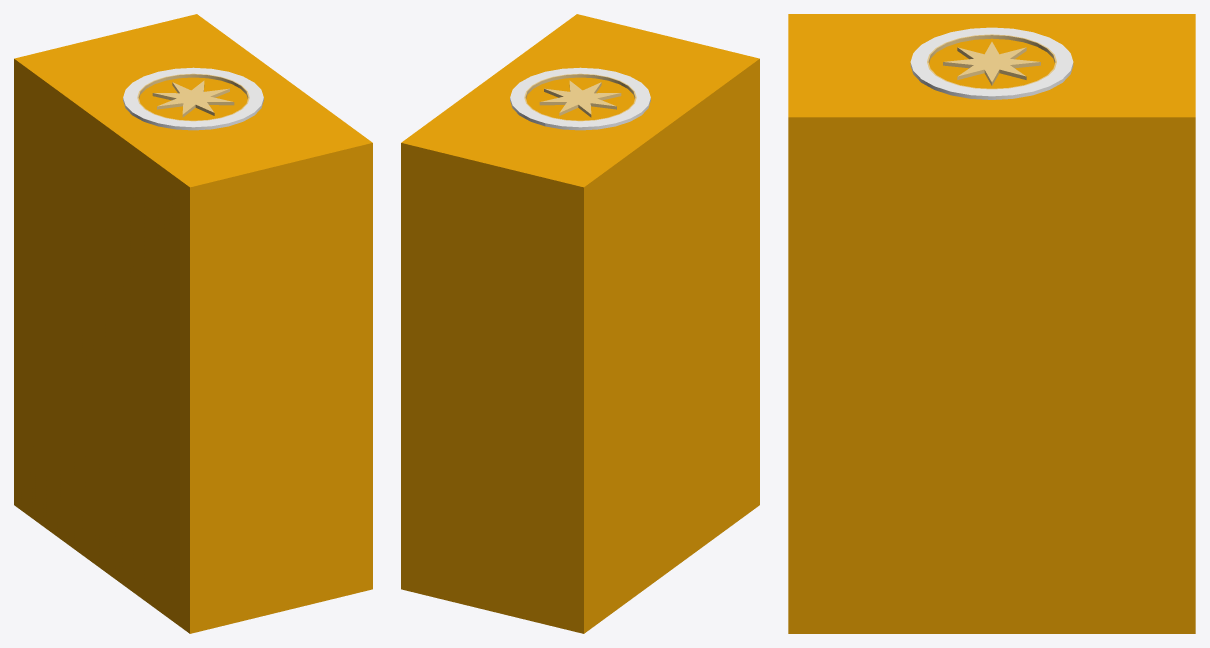
File: Feeder.glb
3 renders of one model, left to right at view 1: azimuth 30°, elevation 25°; view 2: azimuth 150°, elevation 25°; view 3: azimuth 270°, elevation 25°, orthographic. The views are drawn at different scales.
Visible parts, largest first — view 1: Mesh [03Jg], Mesh [038g], Mesh [03Ig]; view 2: Mesh [03Jg], Mesh [038g], Mesh [03Ig]; view 3: Mesh [03Jg], Mesh [038g], Mesh [03Ig].
Part boxes in pixels (<box>): Mesh [03Jg]: <box>14,14,372,633</box>; Mesh [038g]: <box>123,67,263,130</box>; Mesh [03Ig]: <box>137,73,249,121</box>; Mesh [03Jg]: <box>401,14,759,633</box>; Mesh [038g]: <box>510,67,650,130</box>; Mesh [03Ig]: <box>524,73,636,121</box>; Mesh [03Jg]: <box>788,14,1195,633</box>; Mesh [038g]: <box>910,27,1073,99</box>; Mesh [03Ig]: <box>927,34,1056,89</box>.
Size of the model in its own units: 0.3 by 0.705 by 0.5.
